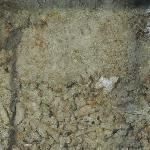dead: (1, 8, 148, 146)
